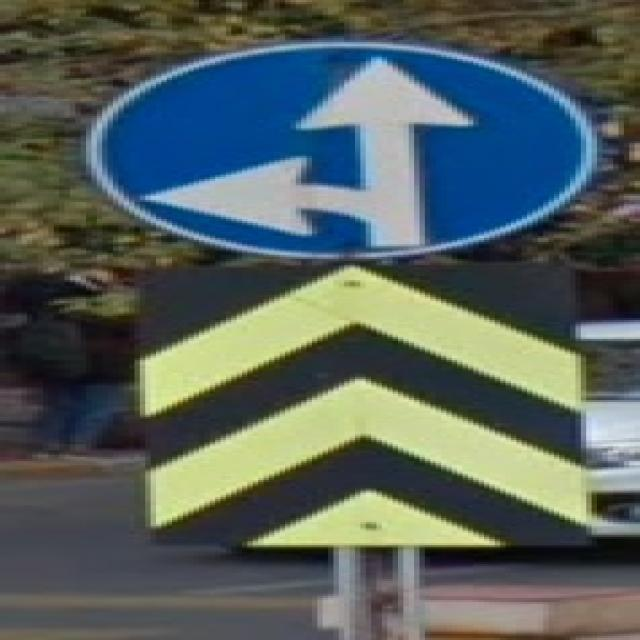Straight or Left: (85, 42, 596, 259)
